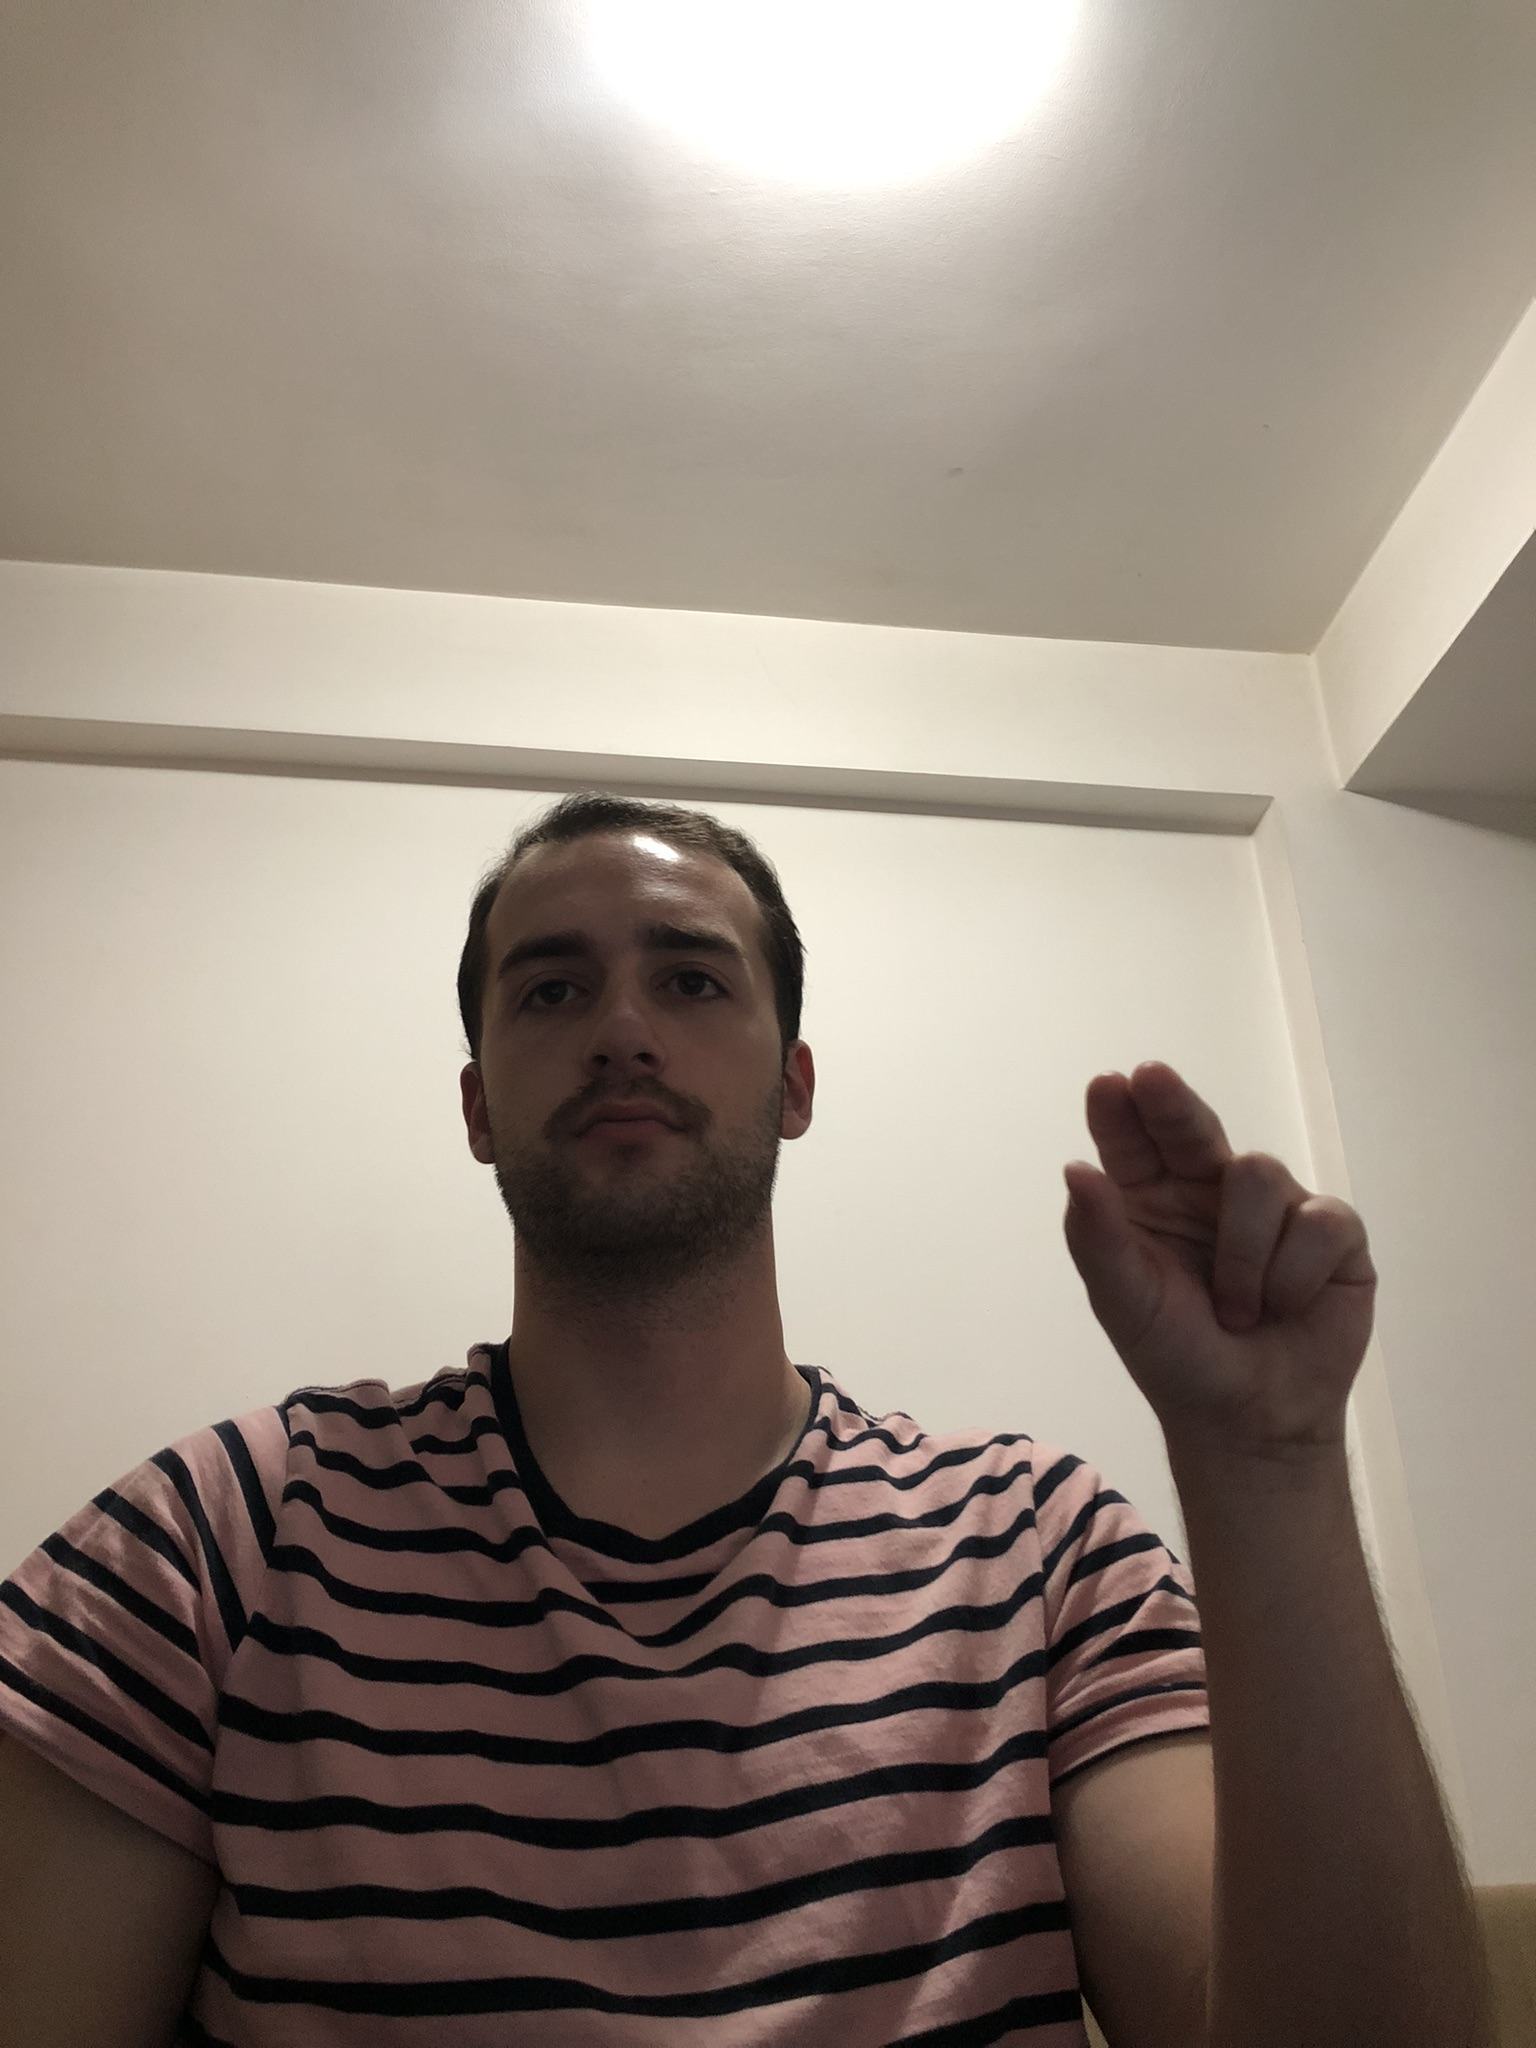No: (1049, 1056, 1404, 1474)
